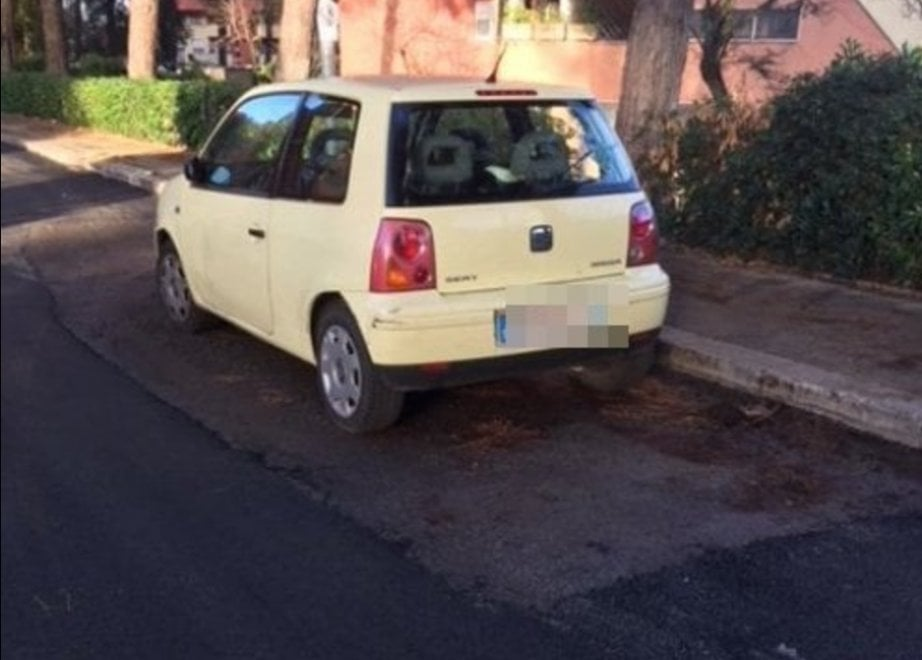car: (154, 74, 671, 434)
